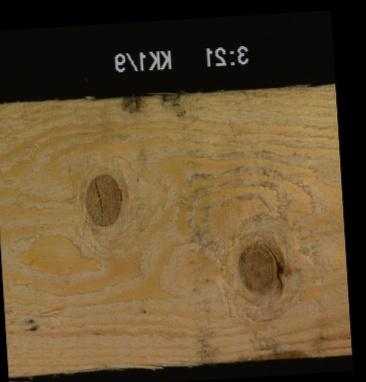dry_knot: (232, 236, 283, 300)
sound_knot: (82, 172, 124, 228)
wave: (265, 343, 306, 358)
